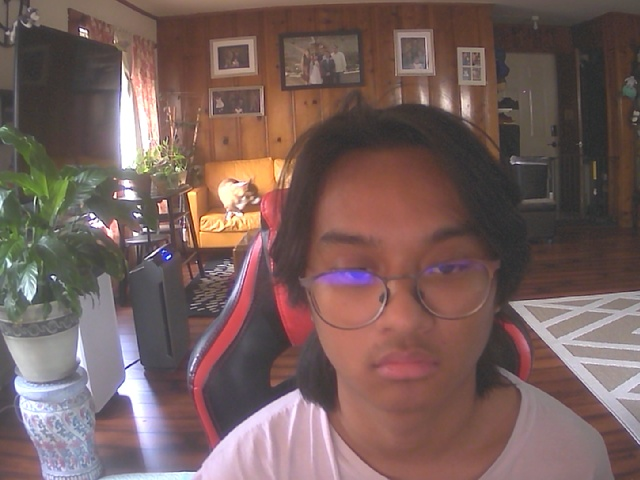neutral: (289, 131, 513, 415)
